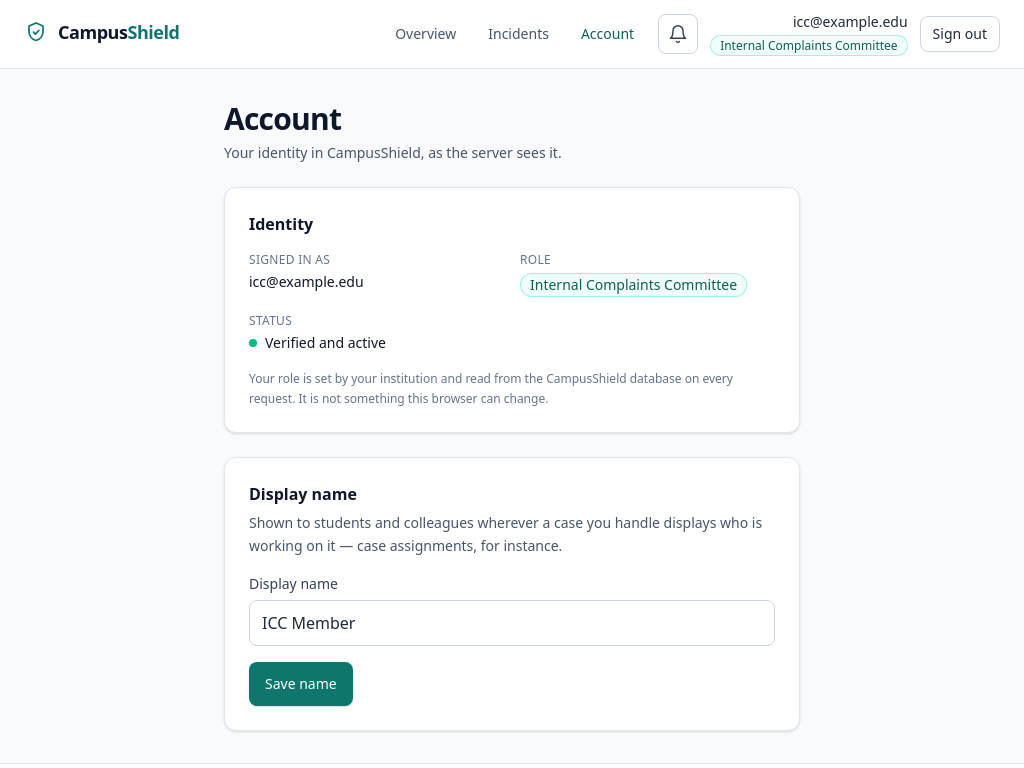
Scenario: AccountPage — staff › disables saving a blank name
This screenshot has width=1024, height=768.
Clear the field labelled "Display name": (512, 622) [249,600,775,646]
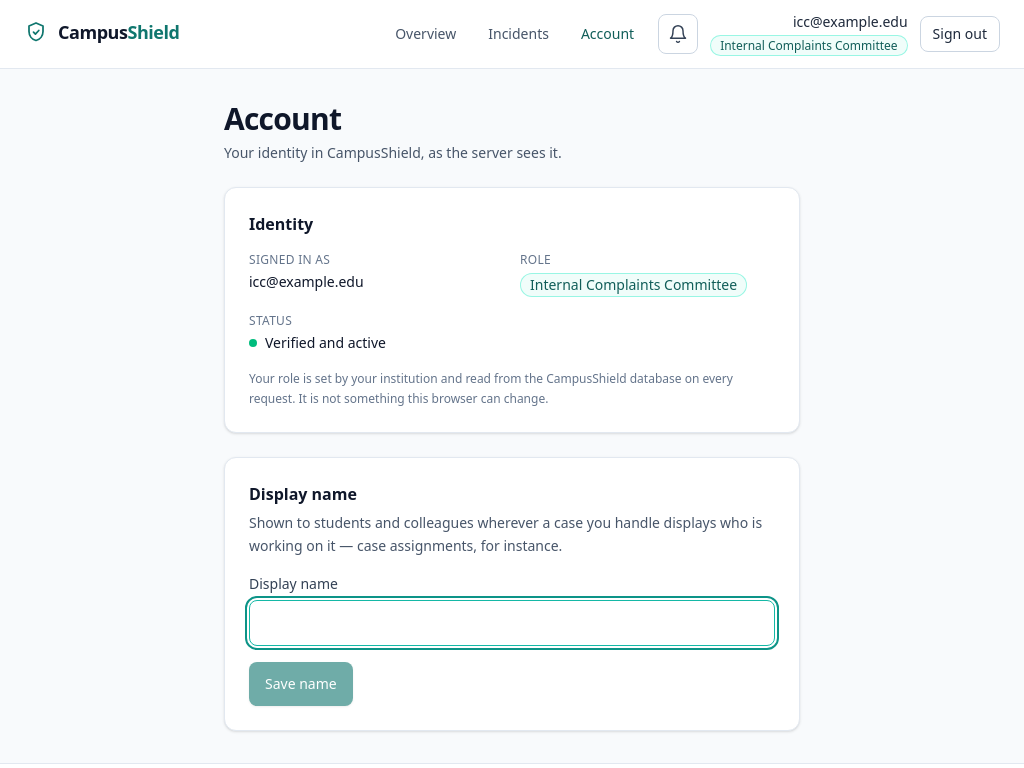
Result: the button "Save name" is disabled at [249,662,353,706]
